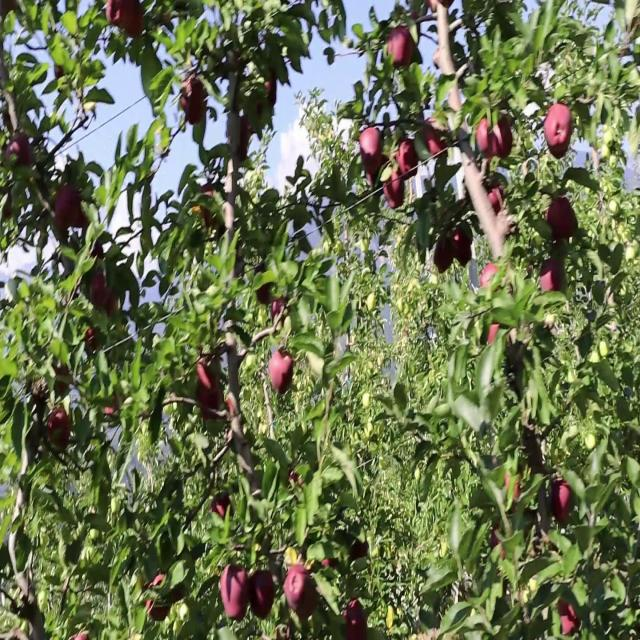apple: (220, 561, 251, 624), (196, 355, 223, 420), (52, 184, 85, 233), (284, 561, 315, 613), (180, 71, 208, 128), (544, 106, 575, 155), (476, 120, 512, 162), (144, 575, 171, 624), (548, 199, 577, 244), (268, 348, 295, 396), (196, 355, 222, 404), (252, 568, 276, 620), (228, 113, 253, 162), (388, 28, 416, 71), (48, 405, 73, 453), (92, 277, 119, 318), (360, 127, 384, 172), (4, 135, 34, 171), (120, 1, 146, 41), (492, 213, 517, 254), (192, 184, 216, 226), (257, 71, 279, 116), (88, 270, 111, 313), (384, 170, 407, 212), (540, 255, 564, 293), (476, 120, 498, 160), (424, 120, 447, 158), (344, 604, 368, 639), (552, 483, 573, 523), (452, 227, 472, 268), (360, 149, 385, 181), (400, 142, 420, 180), (496, 120, 514, 162), (368, 156, 389, 190), (560, 604, 580, 636), (504, 476, 521, 510), (488, 184, 505, 217), (436, 241, 452, 276), (208, 497, 231, 521), (480, 263, 499, 292), (56, 362, 72, 396), (492, 526, 506, 562), (84, 327, 102, 354), (264, 78, 279, 110), (108, 1, 123, 30), (256, 284, 273, 308), (104, 398, 121, 420), (352, 540, 368, 562), (224, 398, 240, 420), (108, 291, 120, 320), (272, 298, 287, 320), (448, 92, 463, 114), (488, 327, 500, 347), (428, 0, 443, 14), (320, 561, 337, 572)
